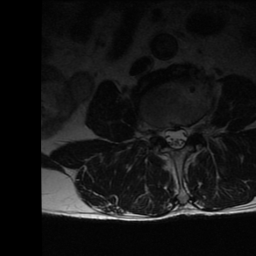CCS_normal: (172, 122, 180, 153)
LFS_normal: (188, 119, 195, 141)
LLS_normal: (180, 123, 187, 146)
RFS_normal: (154, 121, 164, 144)
RLS_normal: (164, 121, 171, 146)
